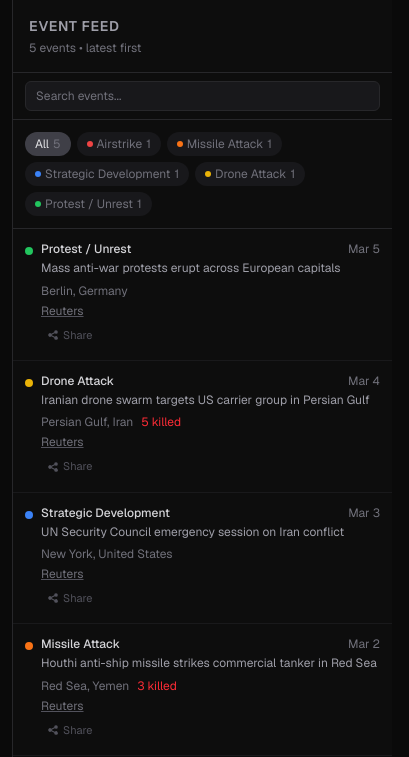
Test case: EventPanel › shows empty state when no events match filter
This screenshot has width=409, height=757.
Type "zzzznonexistent" into the field with placeholder "Search events...".
click(202, 96); type("zzzznonexistent")  # box [25, 81, 380, 111]
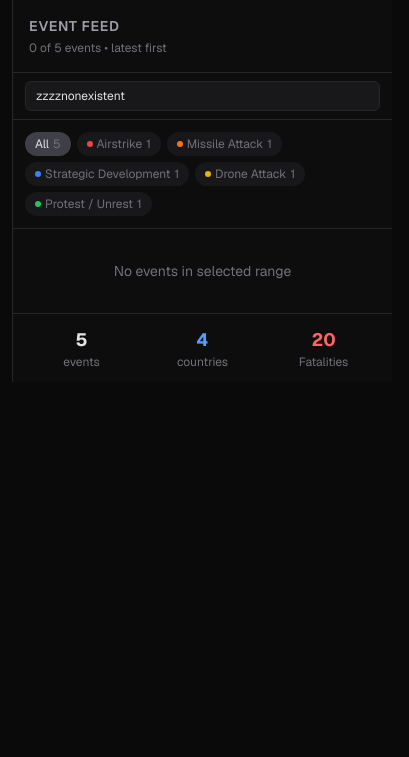
Expected: the text "No events in selected range" is shown, [114, 262, 291, 280]
